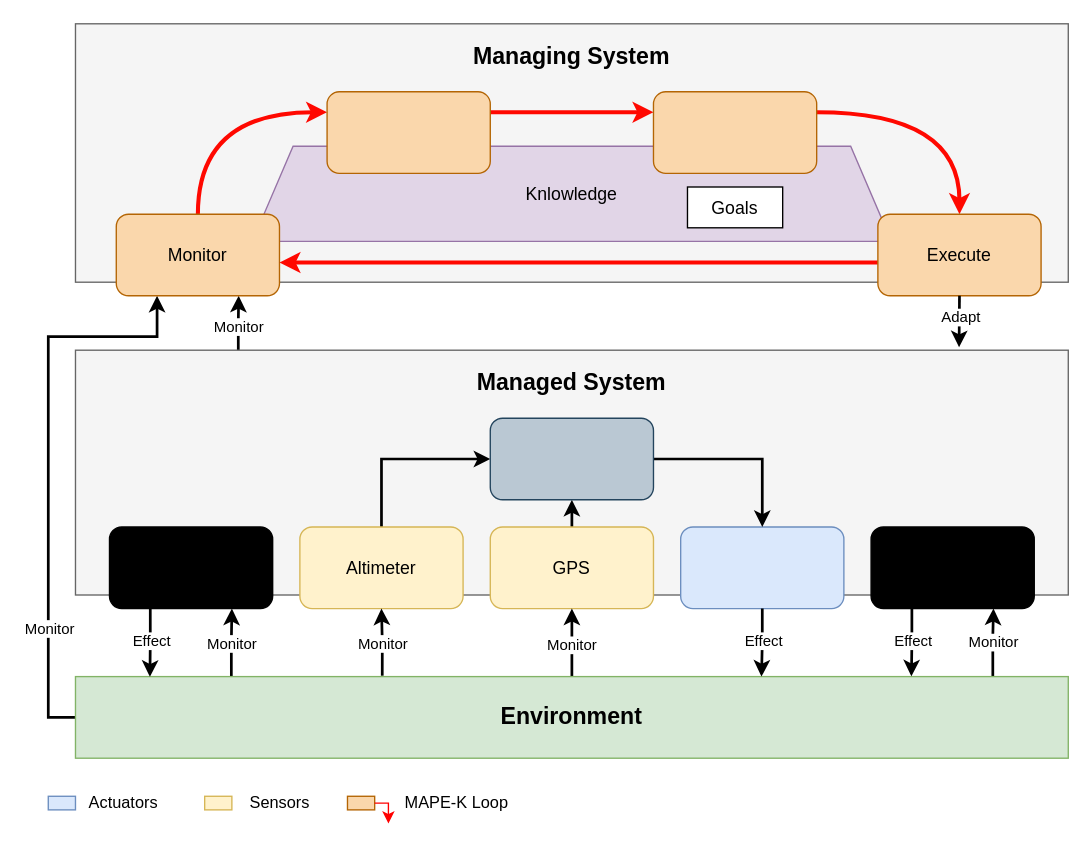
Image size: 1092x858. Some labels were removed from this diagram. Each missing label, with the centre of its shape:
Analize: (408,131)
Flight Controller: (571,458)
Motors: (761,567)
Plan: (734,131)
